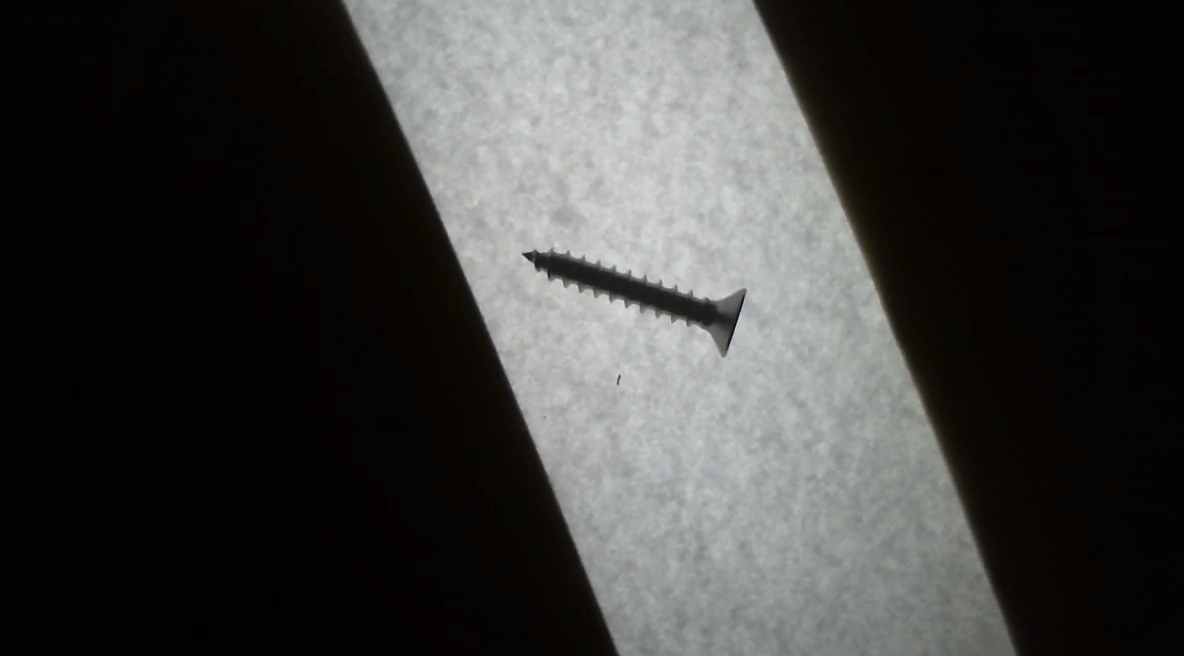S001: (514, 228, 766, 372)
